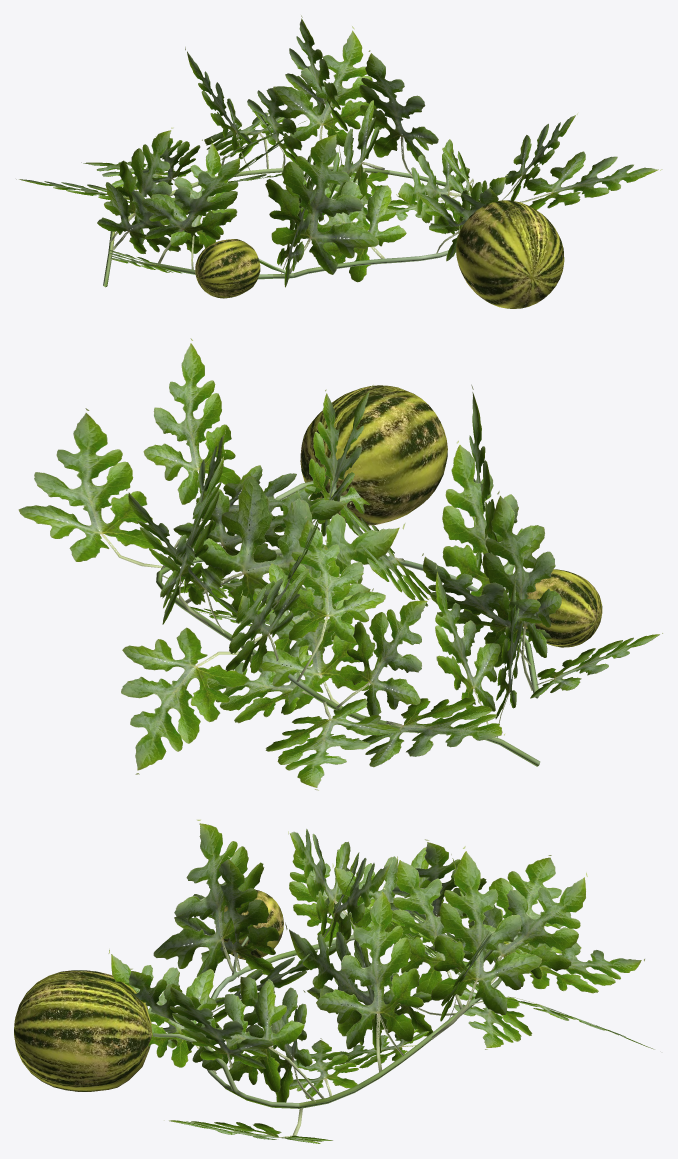
File: crop-vine.glb
3 renders of one model, top to bottom at view 1: azimuth 30°, elevation 25°; view 2: azimuth 150°, elevation 25°; view 3: azimuth 270°, elevation 25°, orthographic. The views are drawn at different scales.
Parts seen in each view (by area): view 1: BUSH, WATERMELON.001, WATERMELON; view 2: BUSH, WATERMELON.001, WATERMELON; view 3: BUSH, WATERMELON.001, WATERMELON.
Boxes of the visible parts, x1,y1,x2,y2 form: BUSH: [16, 15, 662, 287]; WATERMELON.001: [456, 200, 564, 308]; WATERMELON: [195, 239, 260, 298]; BUSH: [18, 338, 663, 790]; WATERMELON.001: [300, 385, 447, 525]; WATERMELON: [523, 569, 602, 647]; BUSH: [108, 819, 654, 1143]; WATERMELON.001: [14, 970, 152, 1091]; WATERMELON: [215, 890, 283, 959].
Size of the model in its own units: 1.9 by 0.7448 by 1.81.
2 materials, 2 textured.
